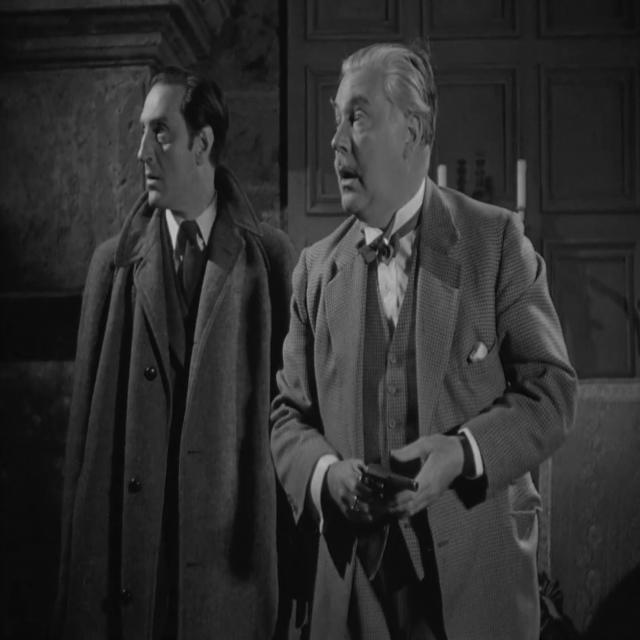gun-knife-thesis - v11 Yolov5 augmented: (327, 443, 421, 537)
